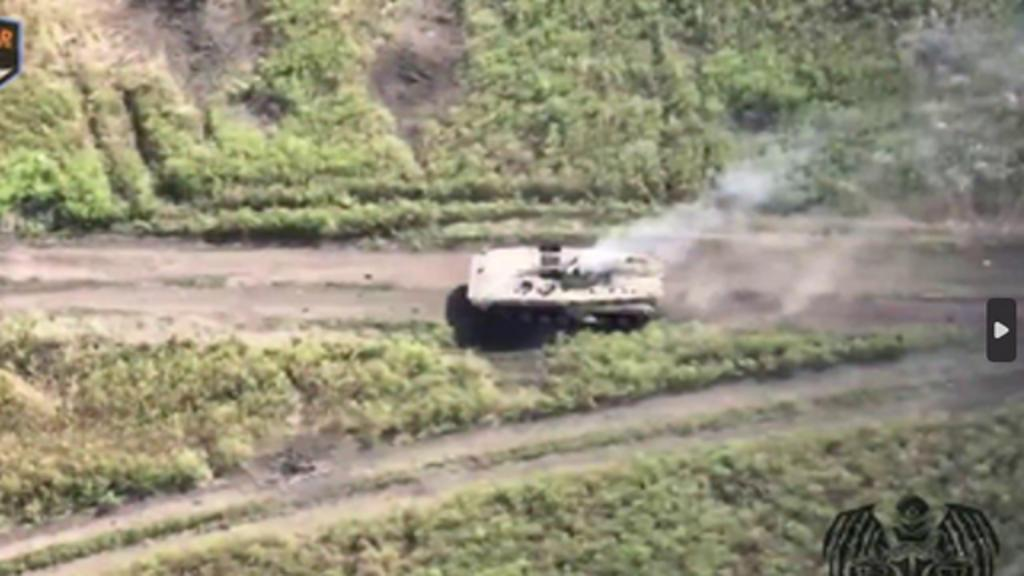APC-IFV: (456, 234, 670, 336)
